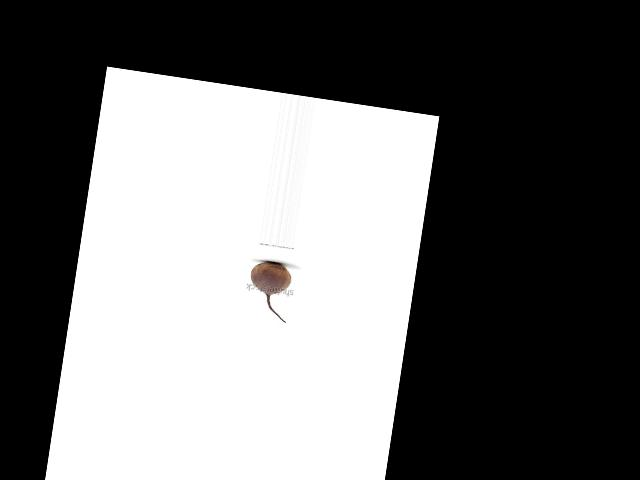beet: (243, 258, 294, 322)
